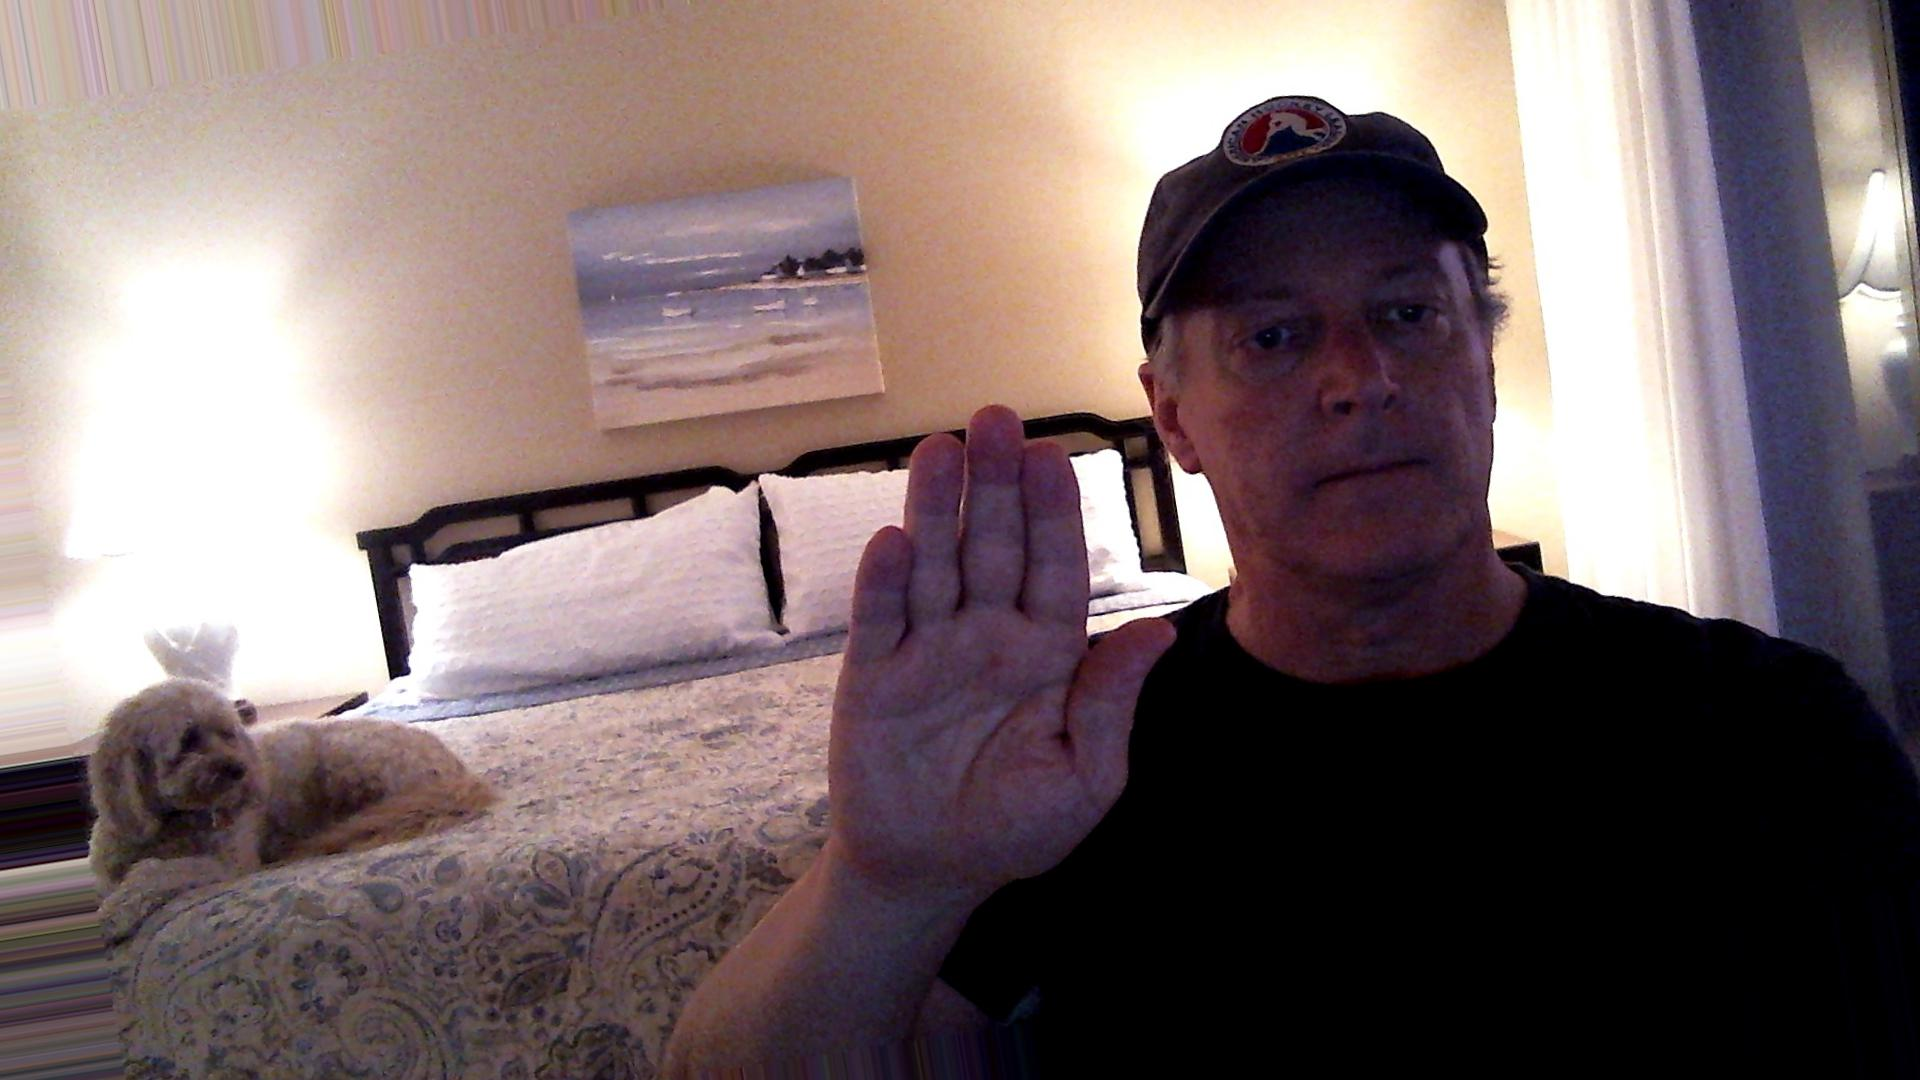Hello: (818, 392, 1189, 895)
